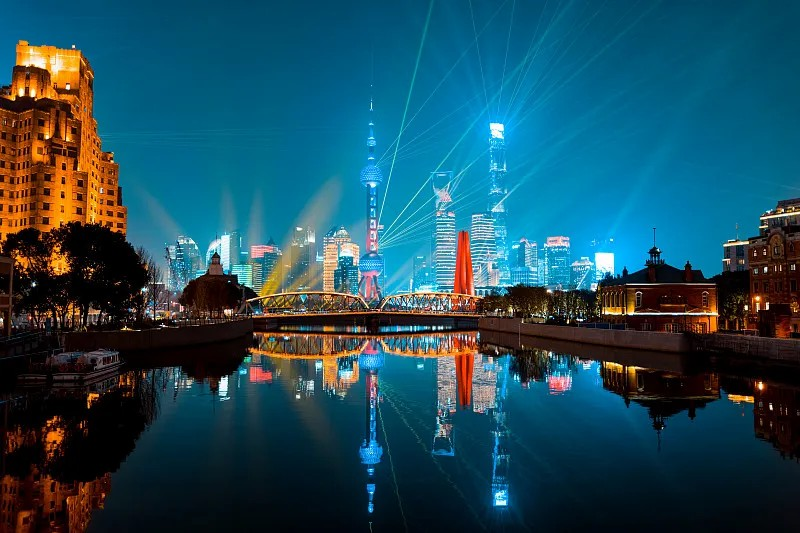Oriental: (358, 84, 383, 303)
